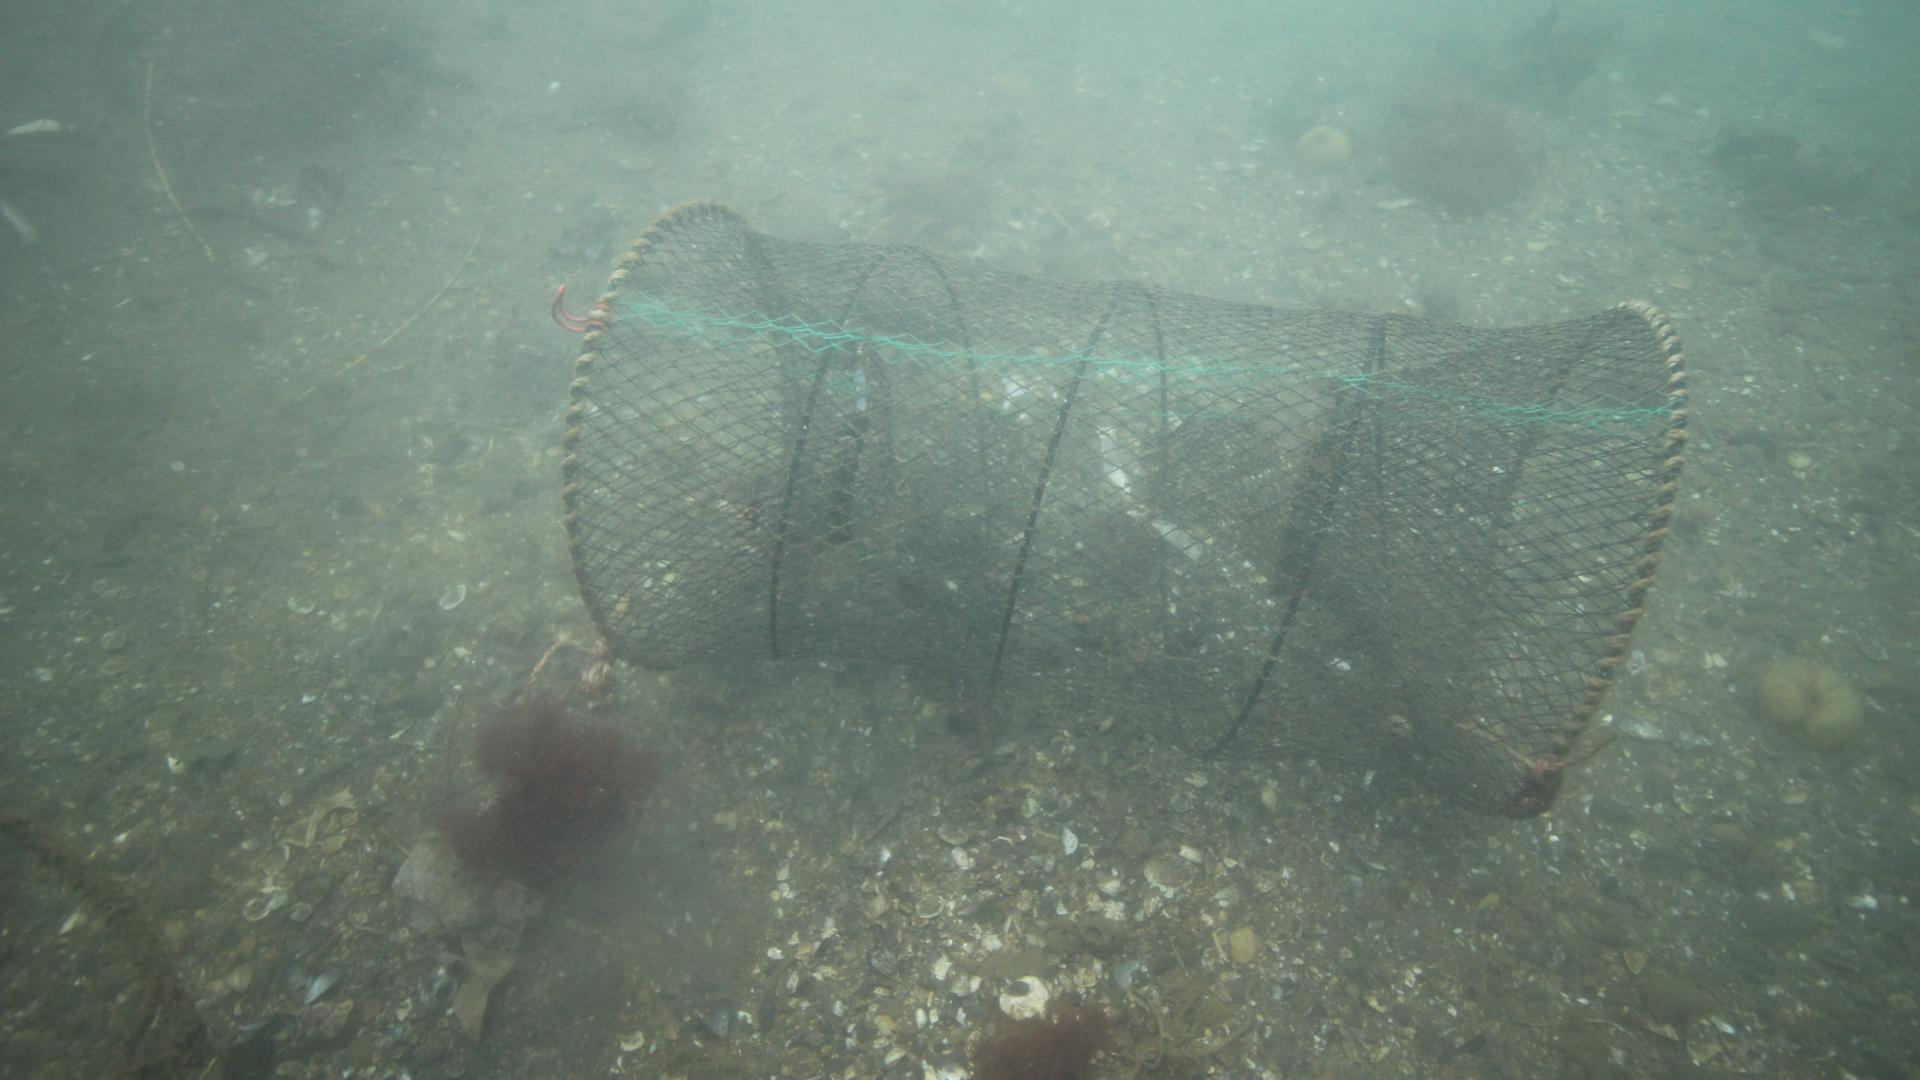spring fish trap: (551, 200, 1695, 820)
